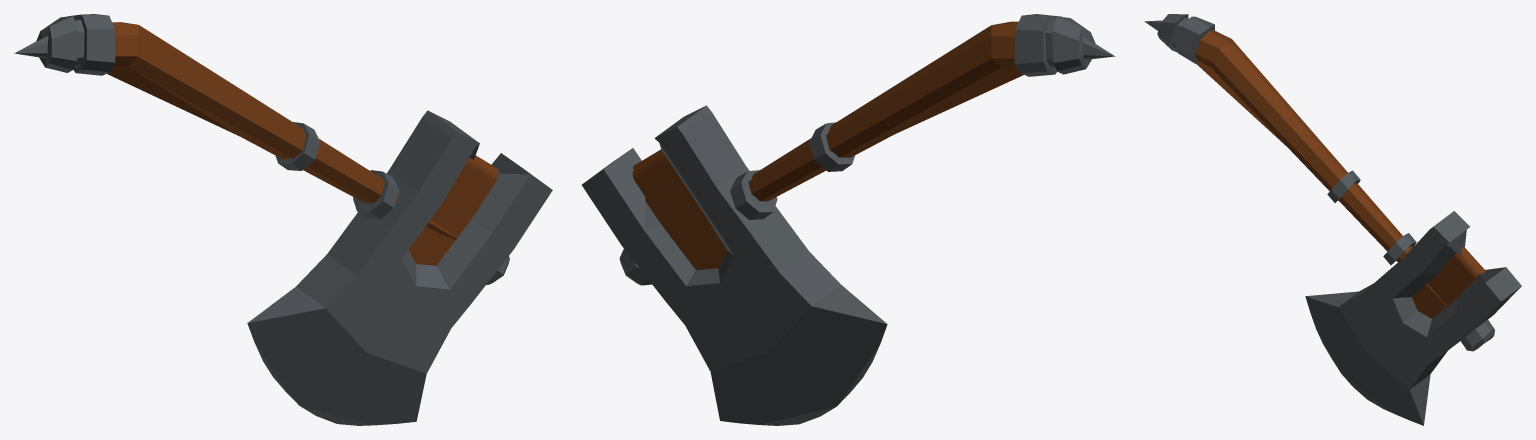
The model's file is Axe.glb.
3 views of the same model, side by side, from view 1: azimuth 30°, elevation 25°; view 2: azimuth 150°, elevation 25°; view 3: azimuth 330°, elevation 25° (orthographic). The views are drawn at different scales.
Visible parts, largest first — view 1: Axe; view 2: Axe; view 3: Axe.
Boxes of the visible parts, x1=… form: Axe: x1=14, y1=14, x2=552, y2=425; Axe: x1=582, y1=14, x2=1115, y2=425; Axe: x1=1144, y1=14, x2=1521, y2=425.
Size of the model in its own units: 6.91 by 6.17 by 0.8402.
